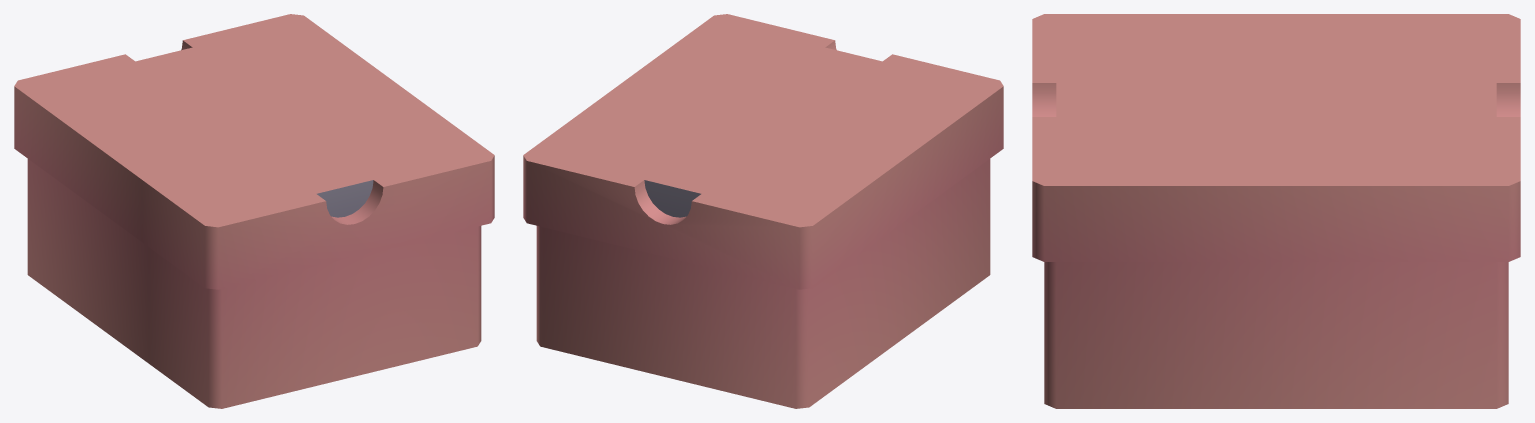
File: shoebox.glb
3 renders of one model, left to right at view 1: azimuth 30°, elevation 25°; view 2: azimuth 150°, elevation 25°; view 3: azimuth 270°, elevation 25°, orthographic. The views are drawn at different scales.
Parts seen in each view (by area): view 1: shoebox; view 2: shoebox; view 3: shoebox.
Part boxes in pixels (left/top/right/bottom): shoebox: left=14, top=14, right=494, bottom=408; shoebox: left=523, top=14, right=1003, bottom=408; shoebox: left=1032, top=14, right=1520, bottom=408.
Bounding box in the file's own units: 0.34 × 0.21 × 0.4078.
